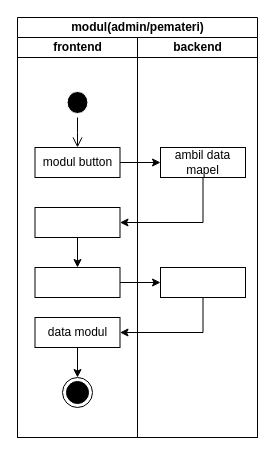
This 275x455 diagram has some shape labels left out. The shapes that lost their labels are listed below. From the top down, each one's centre as x and y in pixels, then its label:
At point (77, 222): "data mapel".
At point (77, 282): "crud modul".
At point (203, 282): "operasi crud".
